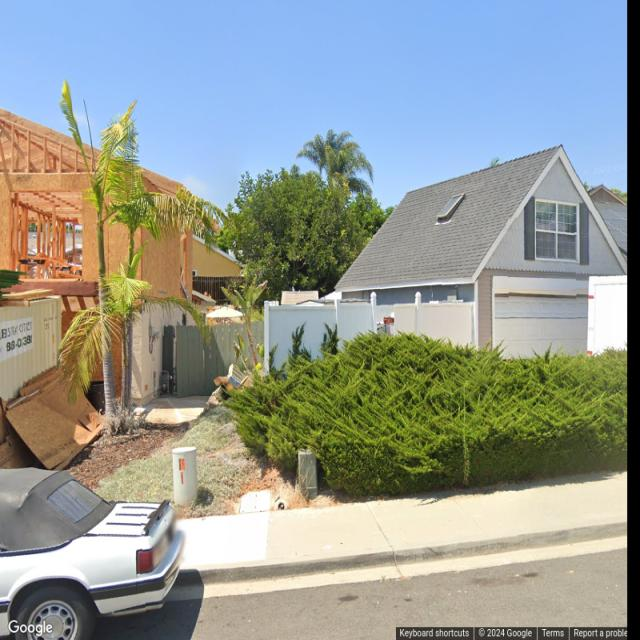House: (333, 143, 628, 360)
